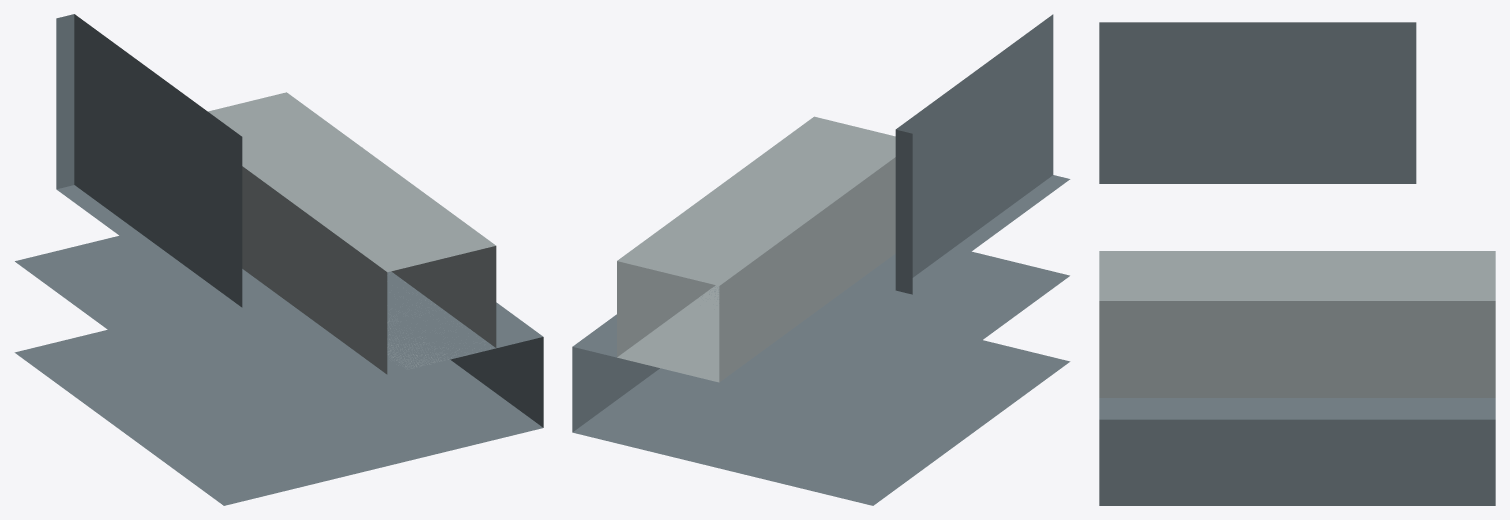
File: cell_9.obj
The picture shows the model from 3 angles, left to right: view 1: azimuth 30°, elevation 25°; view 2: azimuth 150°, elevation 25°; view 3: azimuth 270°, elevation 25°; orthographic projection. The views are drawn at different scales.
Size of the model in its own units: 0.88 by 0.96 by 1.
